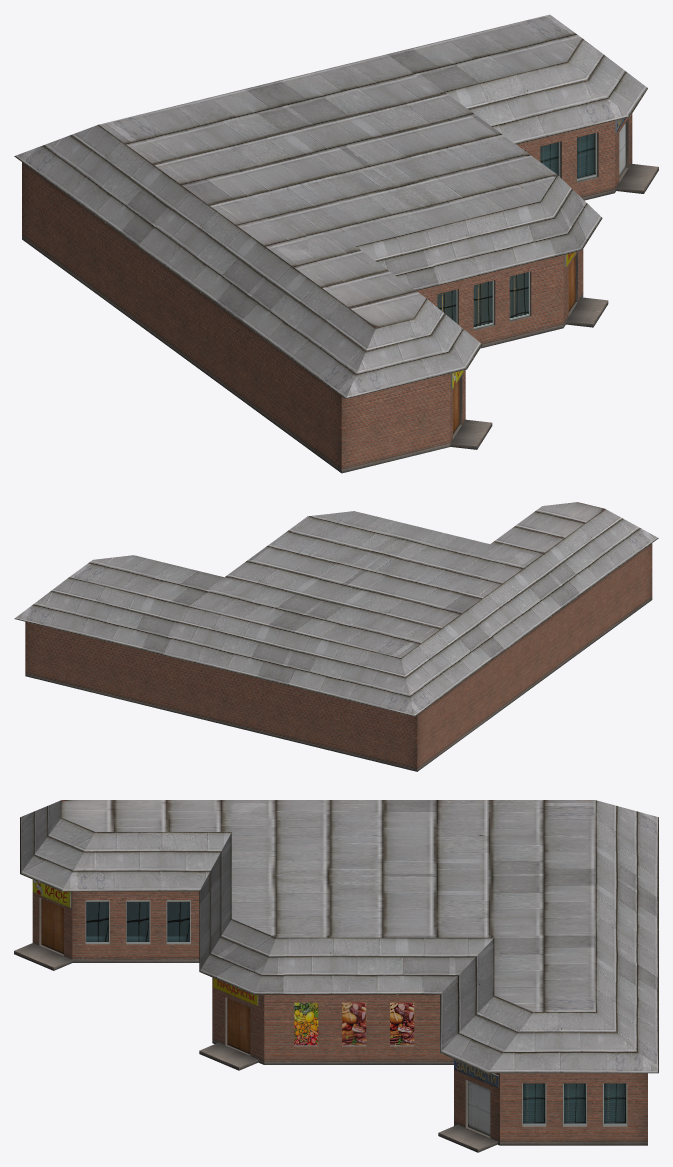
The model's file is r254_isilkul_mag_kafe.FBX.
The picture shows the model from 3 angles, top to bottom: view 1: azimuth 30°, elevation 25°; view 2: azimuth 150°, elevation 25°; view 3: azimuth 270°, elevation 25°; orthographic projection. The views are drawn at different scales.
Visible parts, largest first — view 1: r254_isilkul_mag_kafe; view 2: r254_isilkul_mag_kafe; view 3: r254_isilkul_mag_kafe.
Boxes of the visible parts, x1=… form: r254_isilkul_mag_kafe: x1=14, y1=14, x2=658, y2=473; r254_isilkul_mag_kafe: x1=14, y1=502, x2=658, y2=771; r254_isilkul_mag_kafe: x1=14, y1=800, x2=658, y2=1152.
Size of the model in its own units: 25.33 by 26.67 by 5.39.
